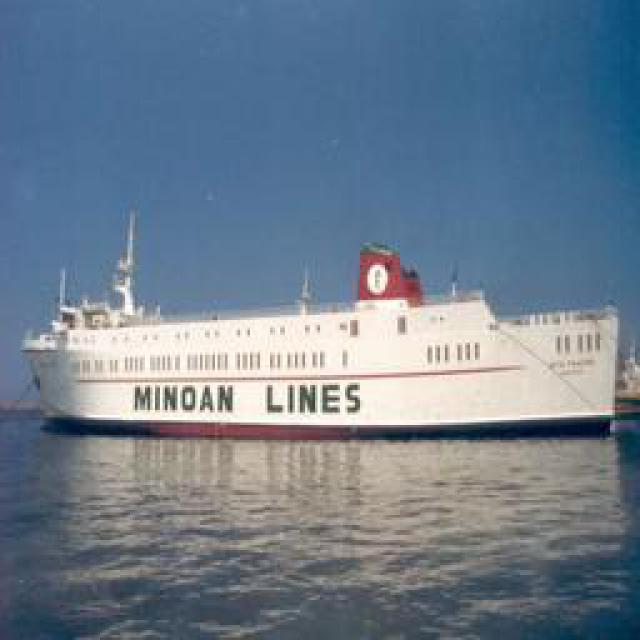Ship: (11, 239, 631, 444)
